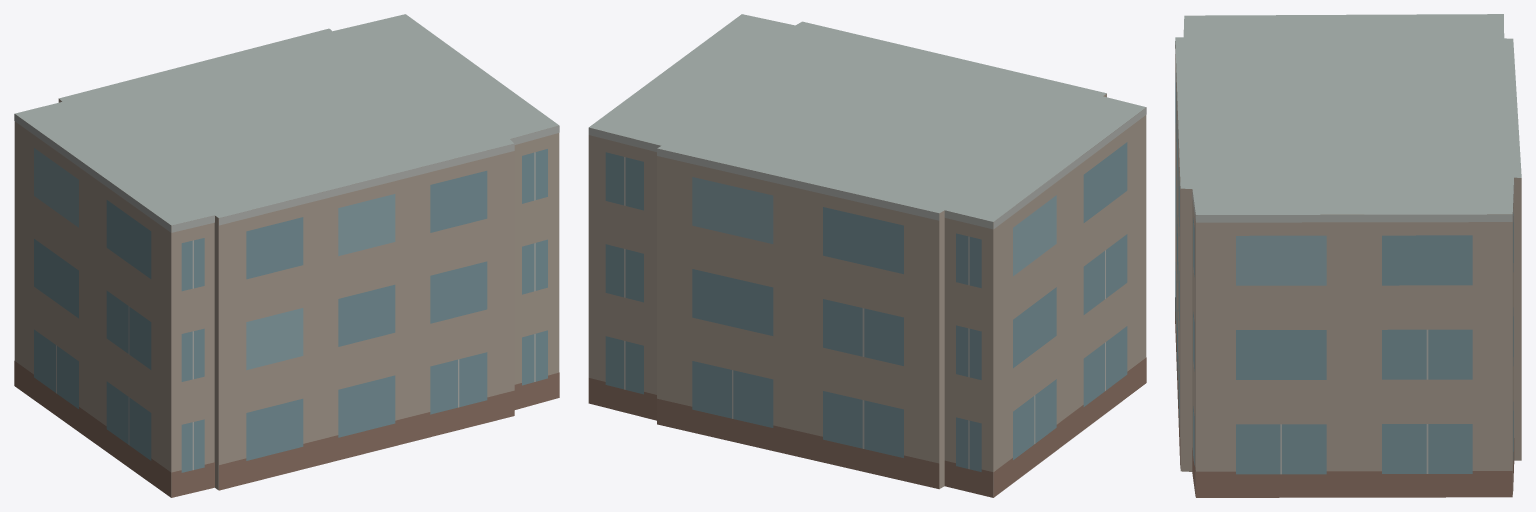
The model's file is survey-upis-32489159.glb.
3 views of the same model, side by side, from view 1: azimuth 30°, elevation 25°; view 2: azimuth 150°, elevation 25°; view 3: azimuth 270°, elevation 25° (orthographic). The views are drawn at different scales.
Visible parts, largest first — view 1: survey-upis-32489159.tmp; view 2: survey-upis-32489159.tmp; view 3: survey-upis-32489159.tmp.
Boxes of the visible parts, box(x1,y1,x2,y2) form: survey-upis-32489159.tmp: box(14, 14, 559, 497); survey-upis-32489159.tmp: box(588, 14, 1146, 497); survey-upis-32489159.tmp: box(1175, 14, 1521, 497).
Size of the model in its own units: 13.73 by 9 by 10.01.
